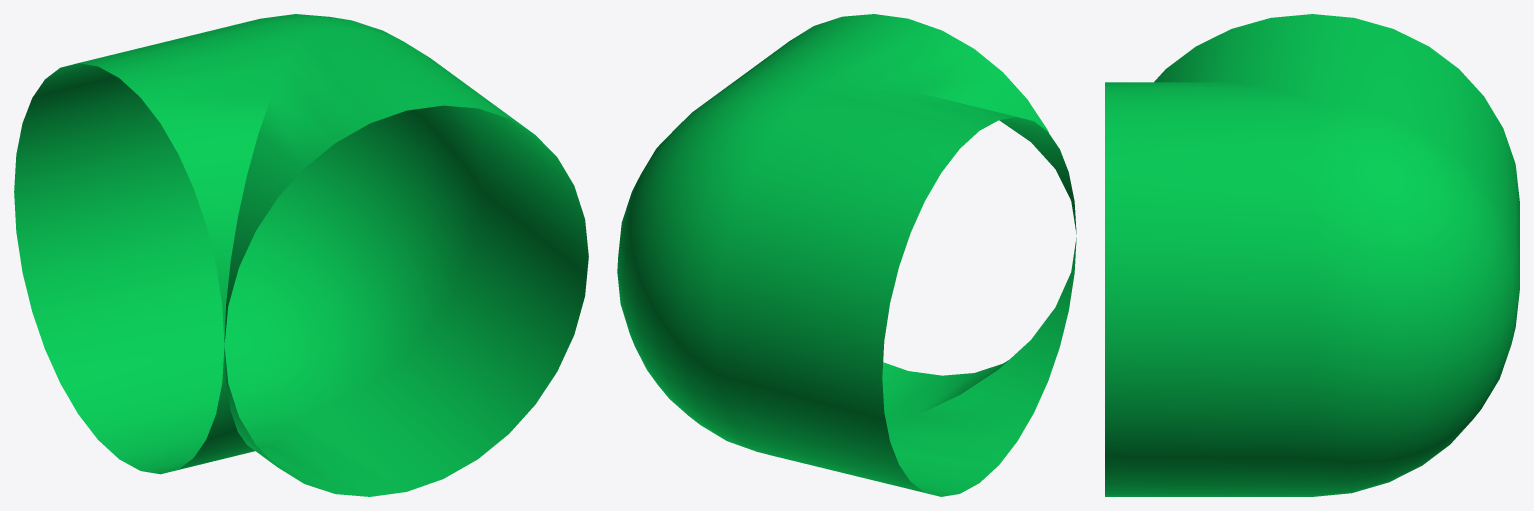
File: body_corner.glb
3 views of the same model, side by side, from view 1: azimuth 30°, elevation 25°; view 2: azimuth 150°, elevation 25°; view 3: azimuth 270°, elevation 25° (orthographic). The views are drawn at different scales.
Visible parts, largest first — view 1: BodyCorner; view 2: BodyCorner; view 3: BodyCorner.
Part boxes in pixels (x1,y1,x2,y2): BodyCorner: (14, 14, 588, 496); BodyCorner: (617, 14, 1076, 496); BodyCorner: (1105, 14, 1519, 496).
Bounding box in the file's own units: 1 × 1 × 1.
